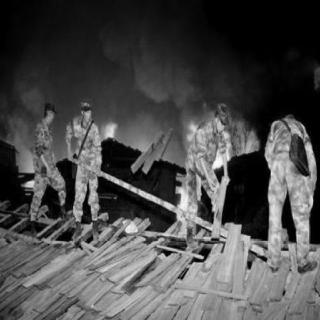Fire: (172, 113, 232, 239)
